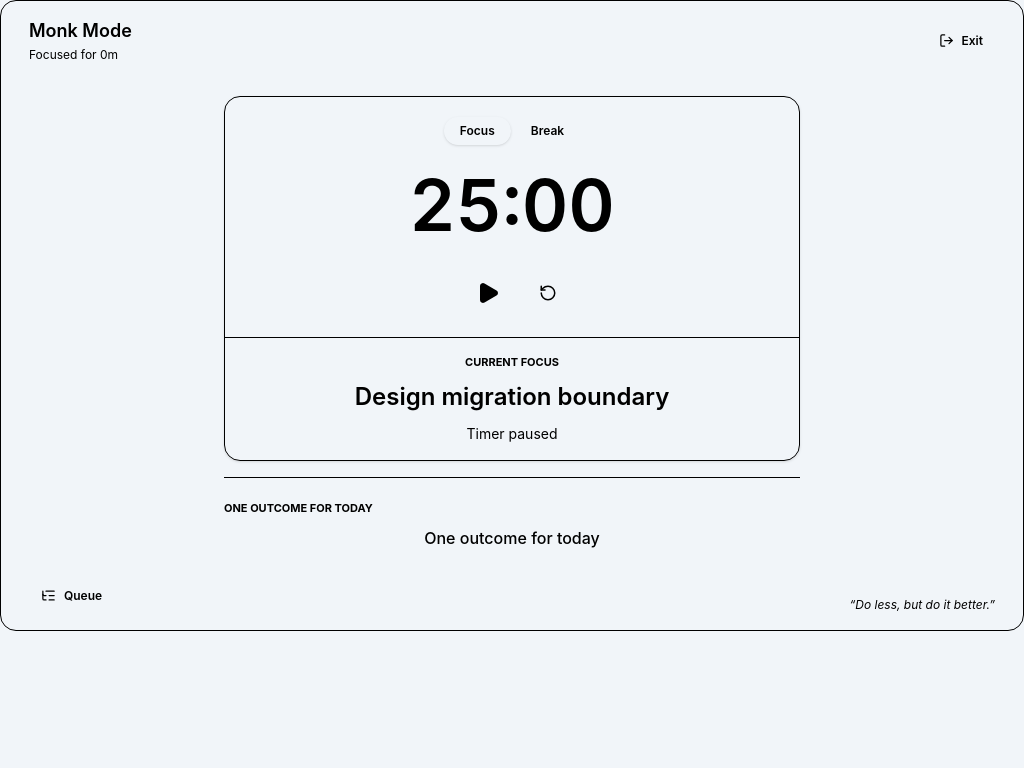
MonkModeView › keeps secondary focus-map details hidden until requested
Expected: the heading "Design migration boundary" is shown, [355,382,669,410]
Expected: the text "review rollback plan" is not shown
Click the button with aria-label "Show focus map": (72, 596) [29,578,114,614]
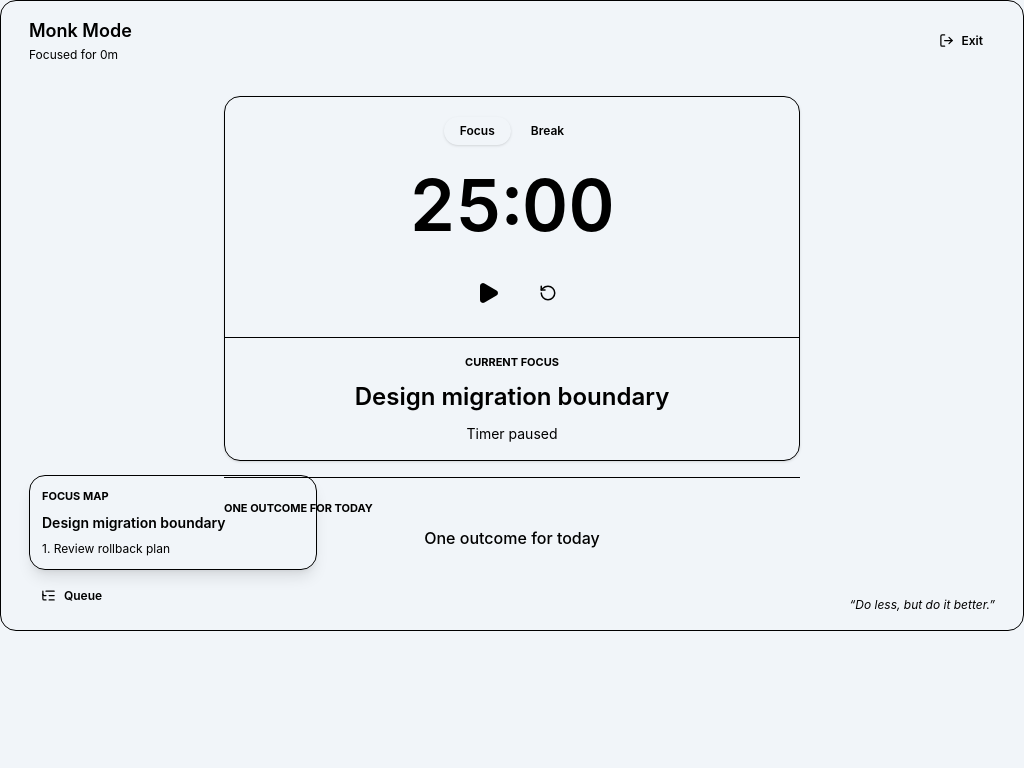
Result: the list item "1. Review rollback plan" is shown at [42,540,170,556]
